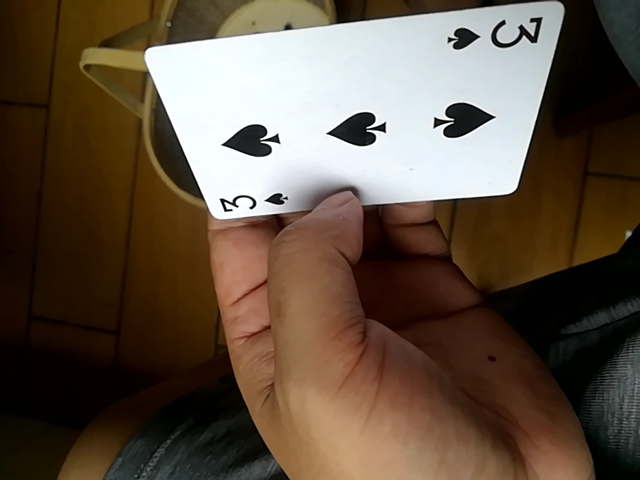ht 3: (138, 2, 563, 227)
